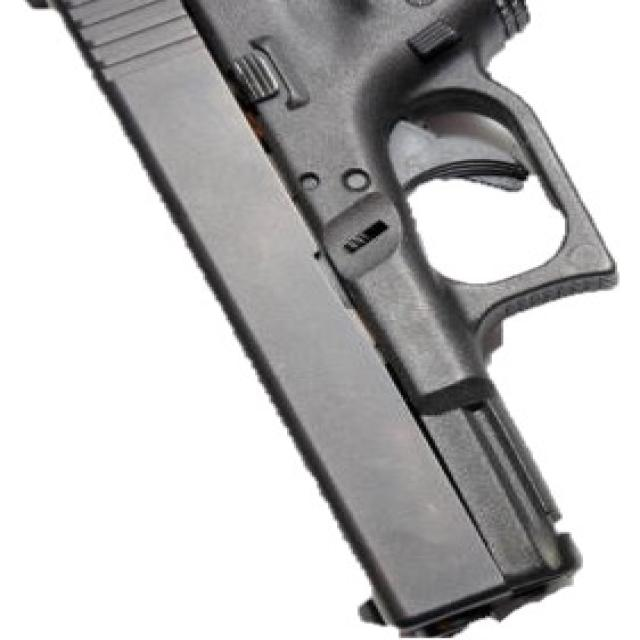pistol: (13, 1, 630, 640)
